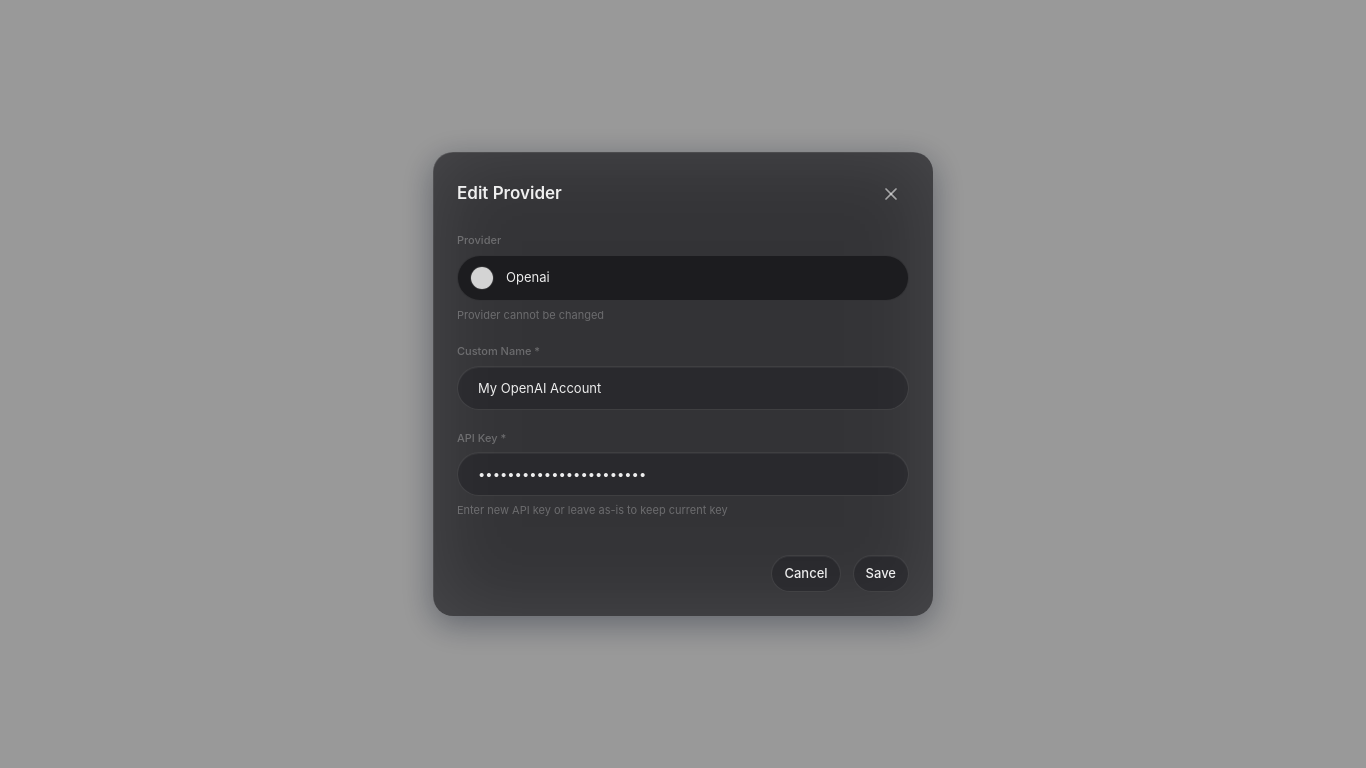
Test: EditProviderModal › Input validation › should show error when API key is empty
This screenshot has width=1366, height=768.
Note: Clear API key
Clear the password field labelled "API Key *" at (683, 474), box [457,452,909,496]
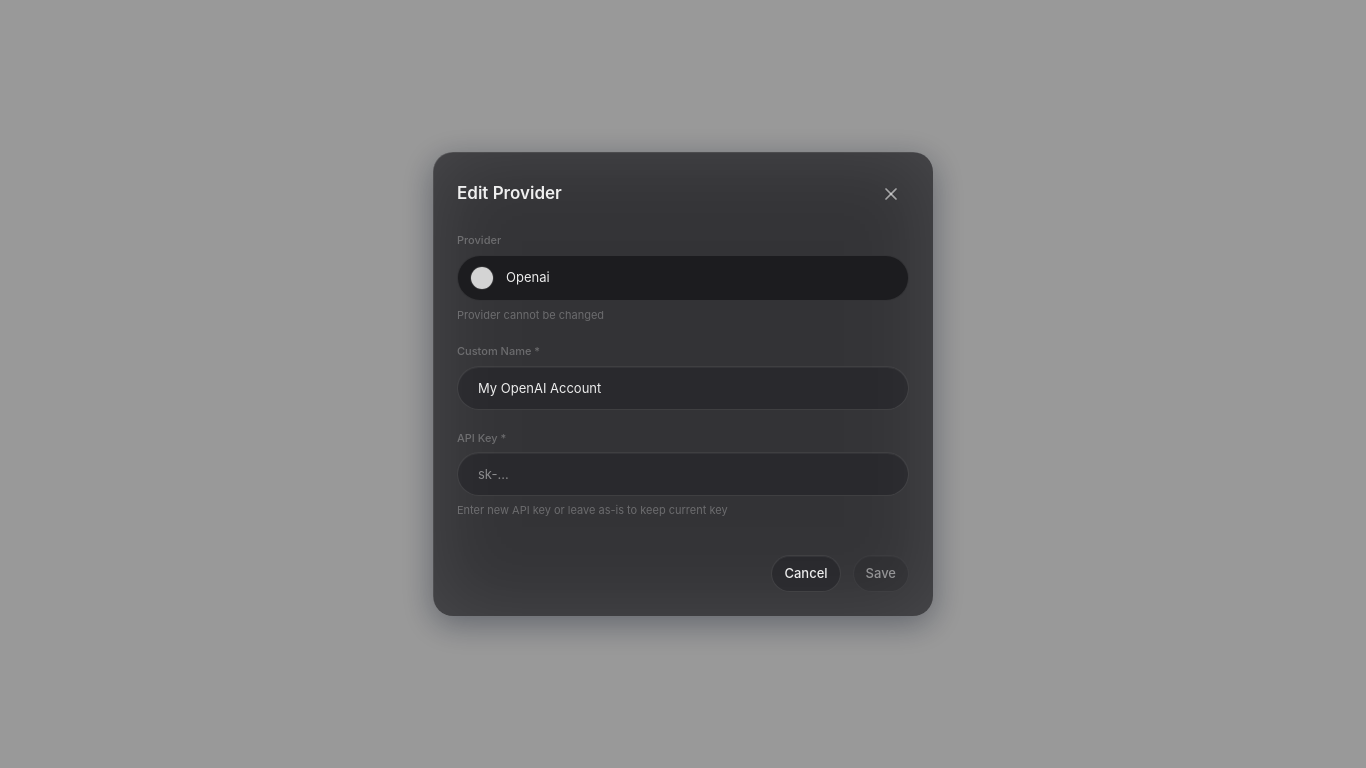
Now the button "Save" is disabled, box [853,554,909,592]
